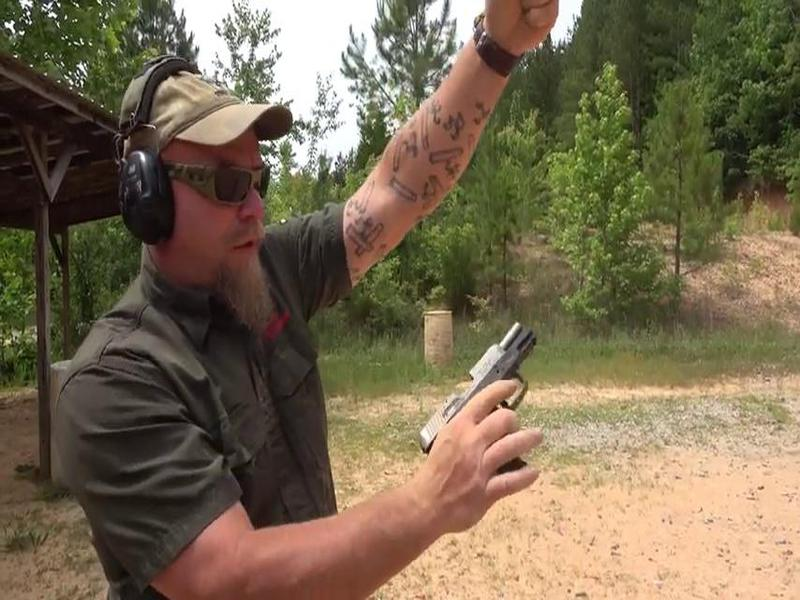Pistola: (414, 307, 545, 498)
